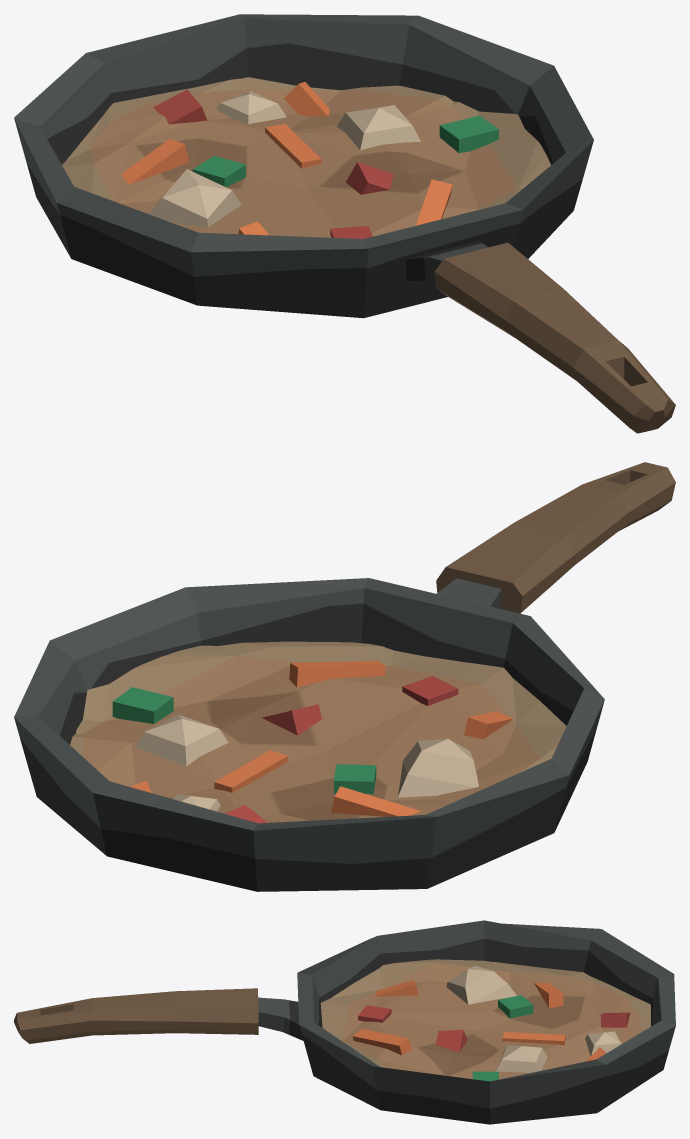
File: SM_Pan.gltf
3 renders of one model, top to bottom at view 1: azimuth 30°, elevation 25°; view 2: azimuth 150°, elevation 25°; view 3: azimuth 270°, elevation 25°, orthographic. The views are drawn at different scales.
Parts seen in each view (by area): view 1: SM_Pan, SM_Pan_Food; view 2: SM_Pan, SM_Pan_Food; view 3: SM_Pan, SM_Pan_Food.
Boxes of the visible parts, left/top/right/bottom form: SM_Pan: left=14, top=14, right=675, bottom=433; SM_Pan_Food: left=62, top=77, right=550, bottom=238; SM_Pan: left=14, top=462, right=675, bottom=891; SM_Pan_Food: left=70, top=641, right=566, bottom=823; SM_Pan: left=14, top=920, right=675, bottom=1124; SM_Pan_Food: left=320, top=959, right=650, bottom=1081.
Bounding box in the file's own units: 0.462 × 0.0843 × 0.7743.
1 material, 1 textured.
